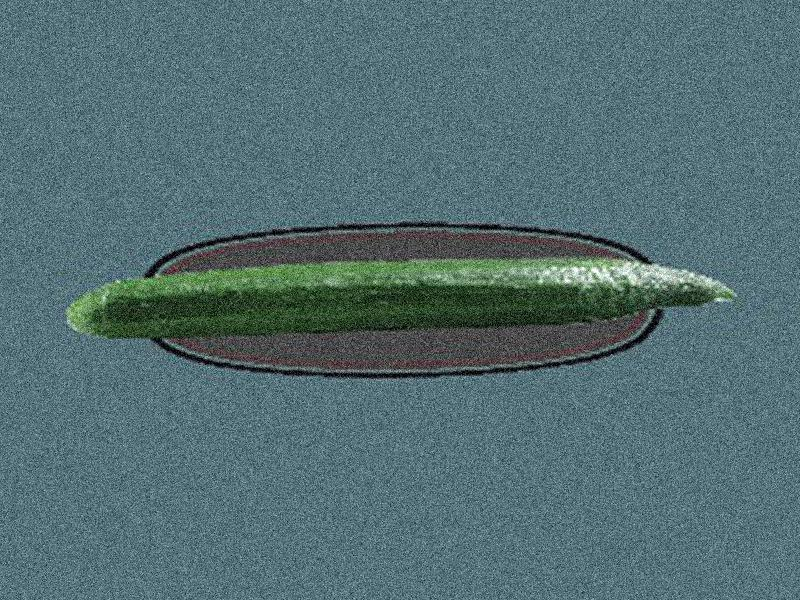Cucumber: (63, 259, 737, 341)
